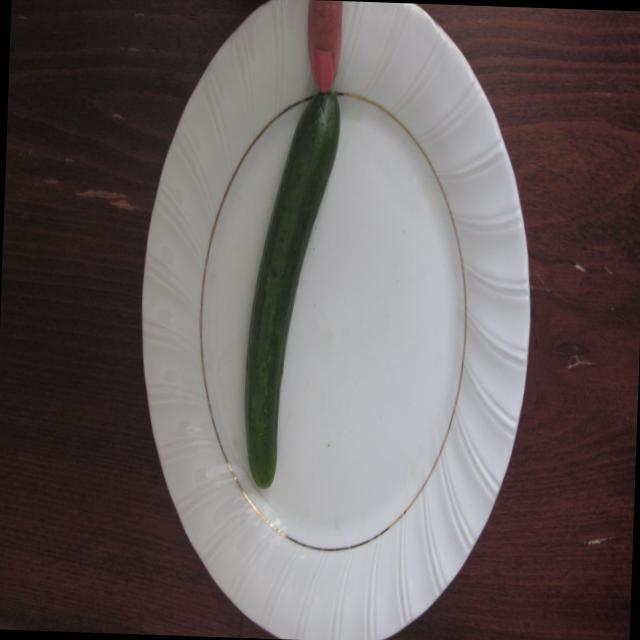Cucumber: (232, 90, 344, 493)
Finger: (298, 0, 349, 93)
